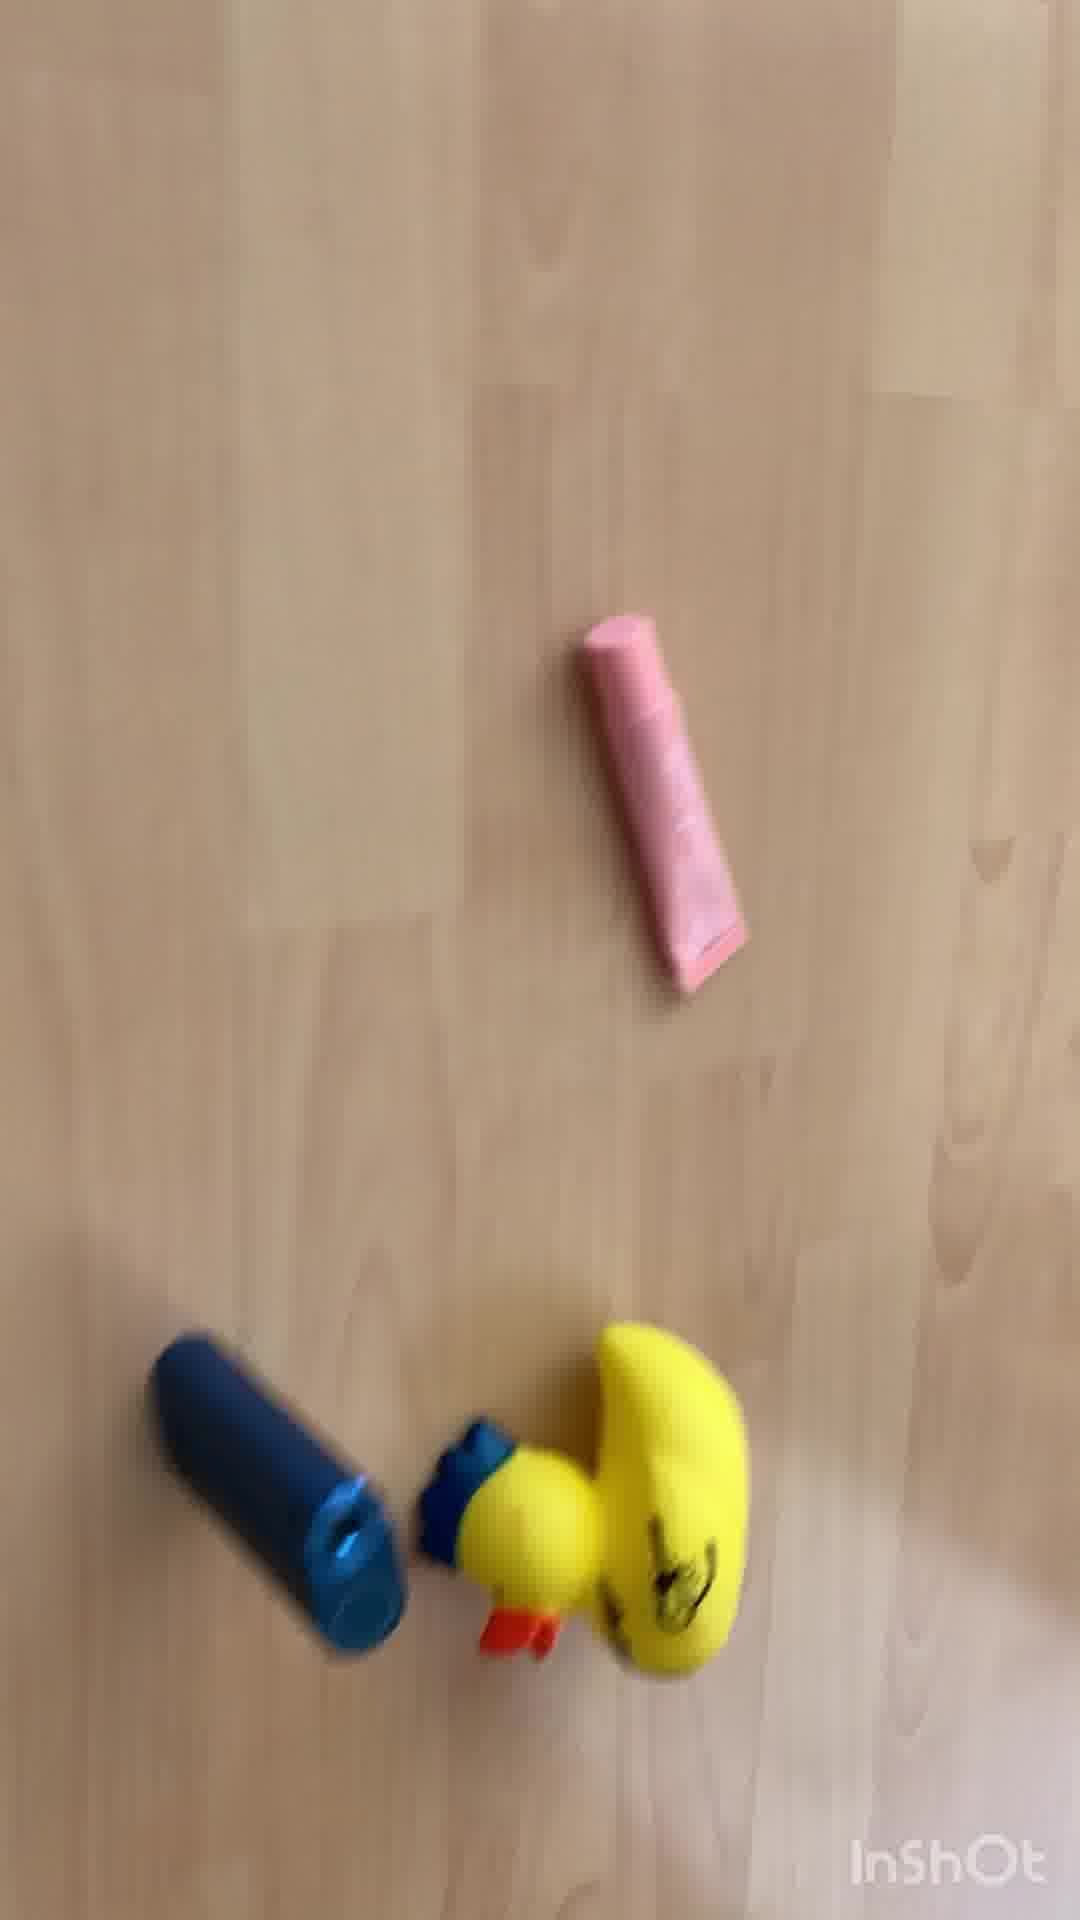duck: (407, 1303, 752, 1693)
glo: (144, 1298, 421, 1672)
lip balm: (585, 600, 754, 1013)
